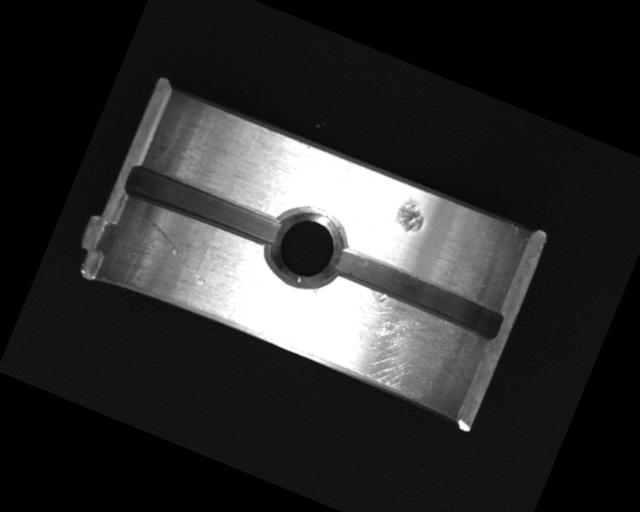bruise: (391, 195, 431, 238)
gap: (325, 242, 506, 344), (122, 160, 284, 252)
hole: (257, 196, 354, 296)
nick: (130, 214, 220, 288)
scratch: (298, 273, 484, 416)
